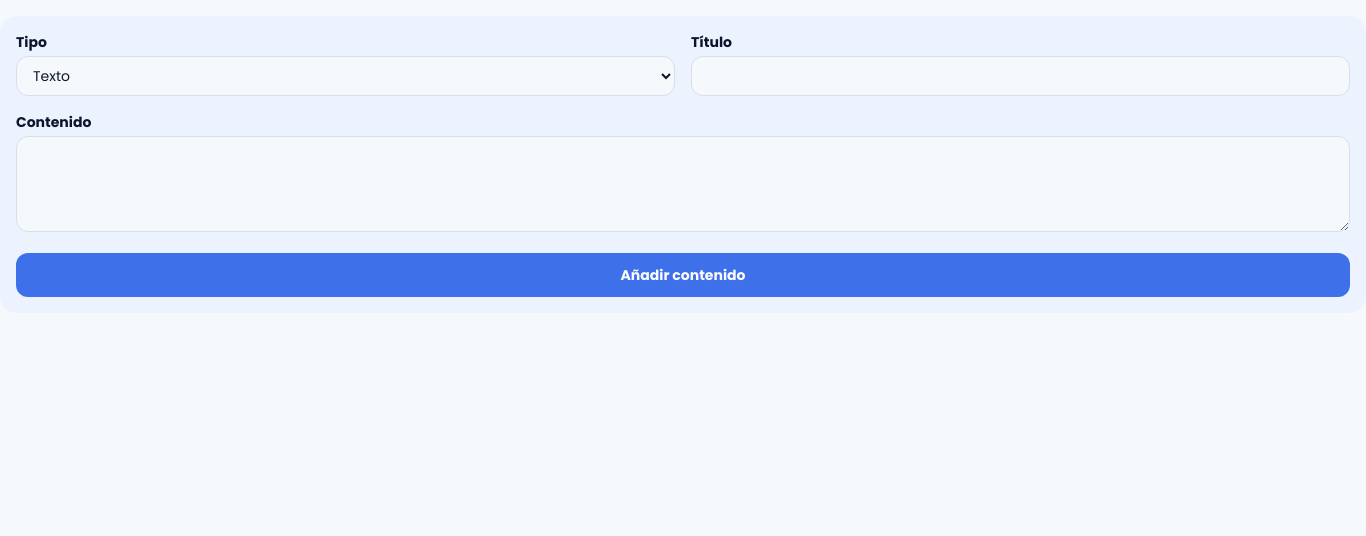
Scenario: formulario de contenido de grupo › muestra un fallo recuperable sin sustituir la página
The width and height of the screenshot is (1366, 536).
Select "Entrega" in the dropdown labelled "Tipo" at (346, 76), box [16,56,675,96]
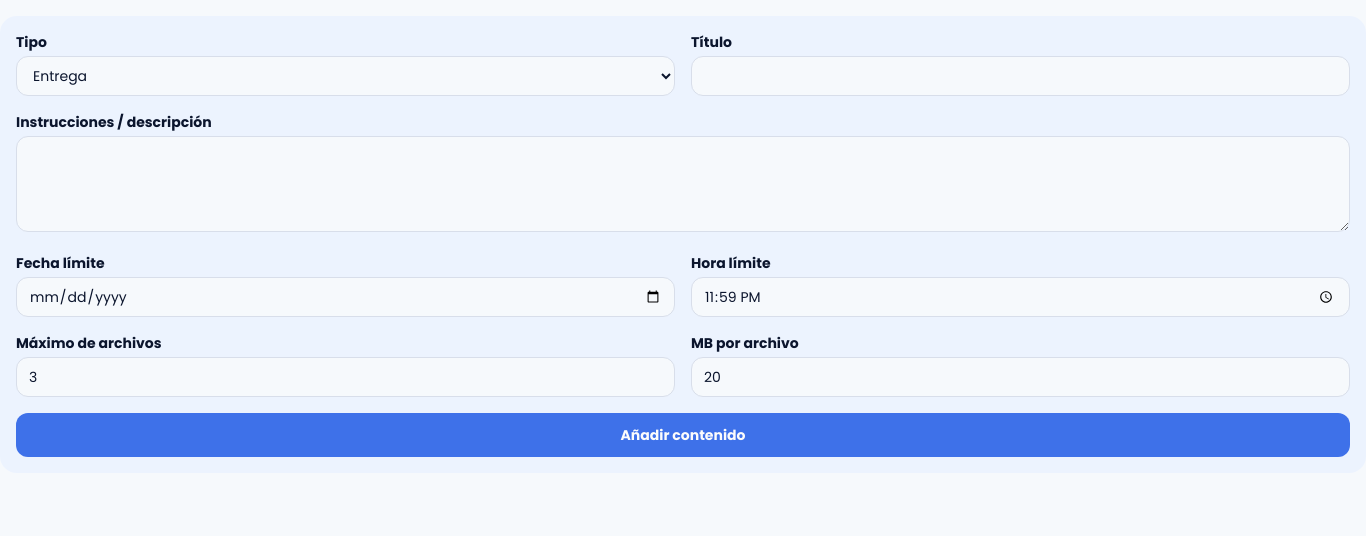
Type "Entrega Tarea 1" into the field labelled "Título" at (1020, 76), box [691,56,1350,96]
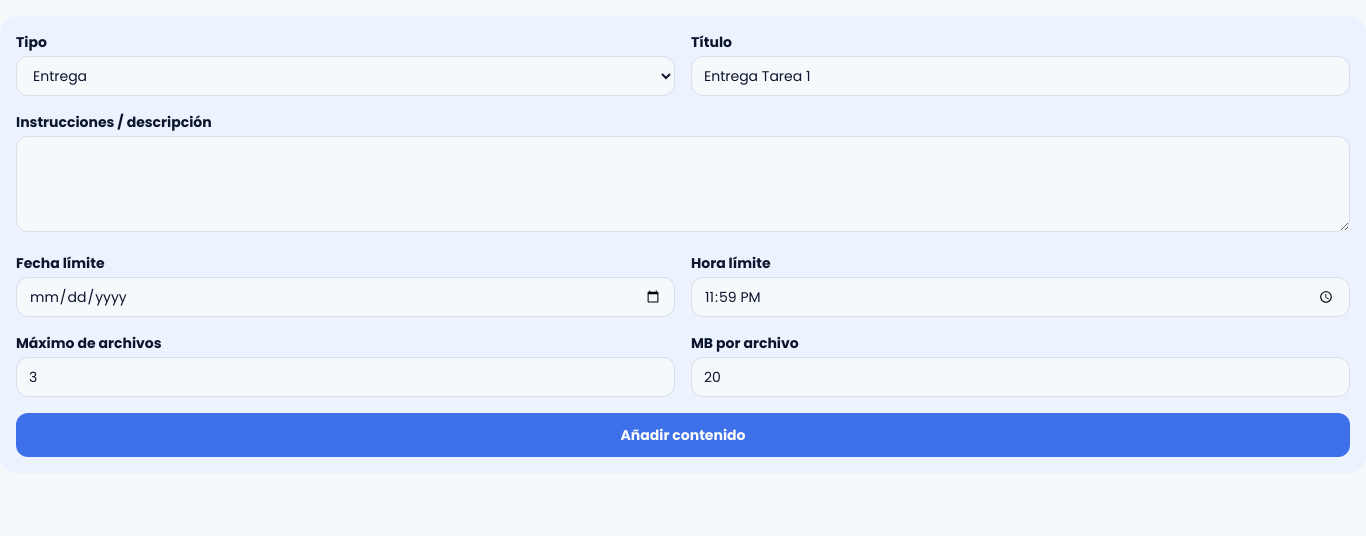
Type "2026-11-08" into the date field labelled "Fecha límite" at (346, 297), box [16,277,675,317]
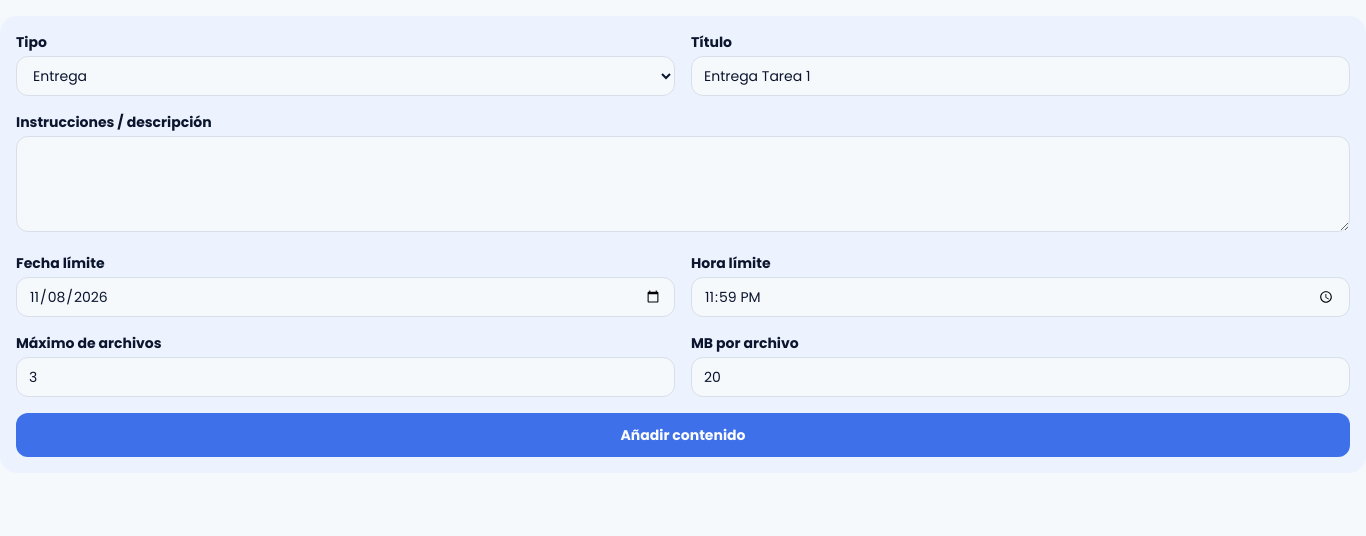
Submit the form
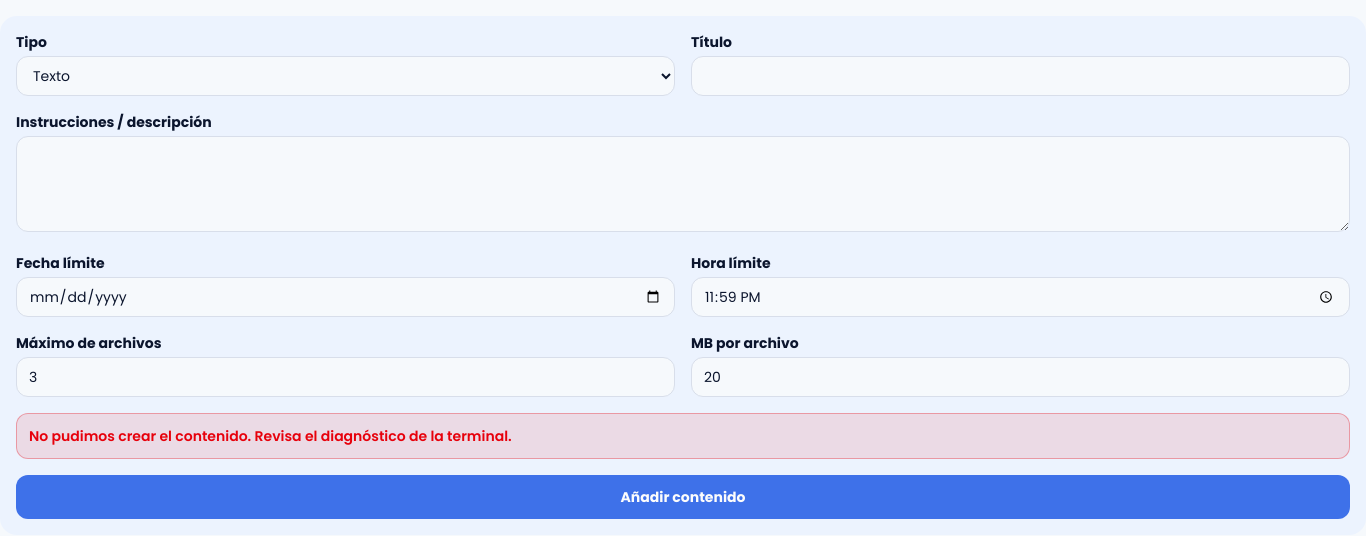
Check: the button "Añadir contenido" is shown, box [16,475,1350,519]
Check: the message shows "No pudimos crear el contenido", box [29,426,512,446]
